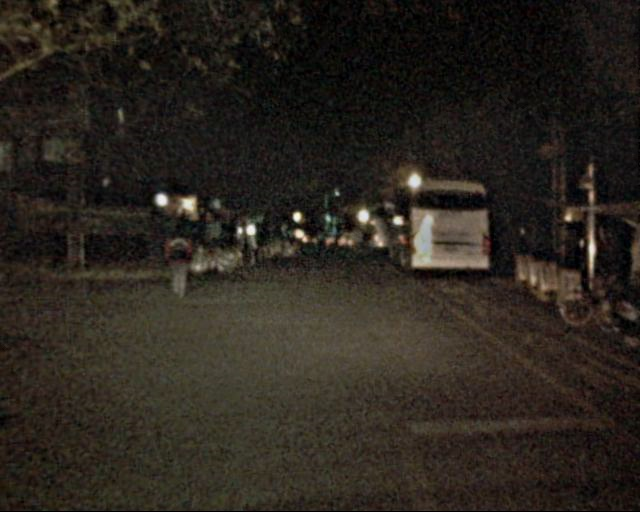person: (164, 218, 196, 295), (232, 221, 255, 276), (348, 230, 372, 260)
